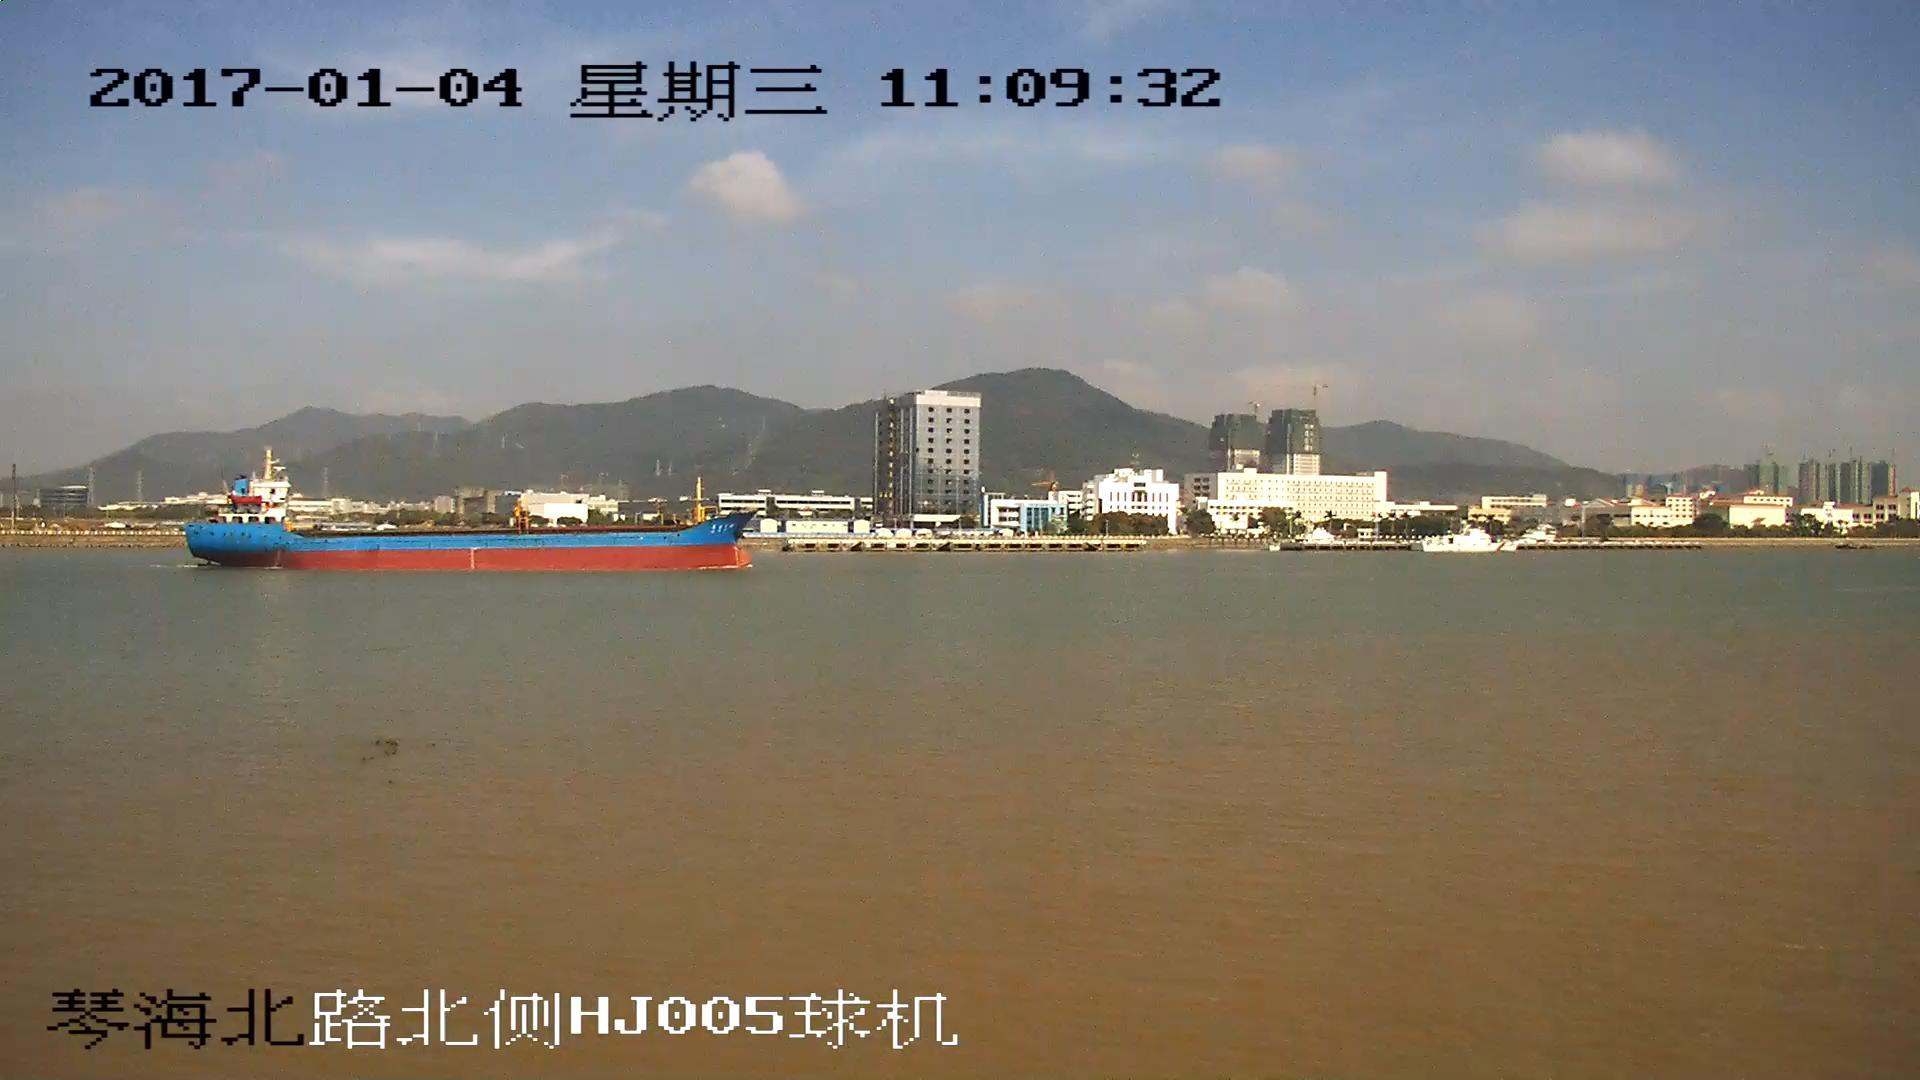Ship: (189, 454, 760, 578)
